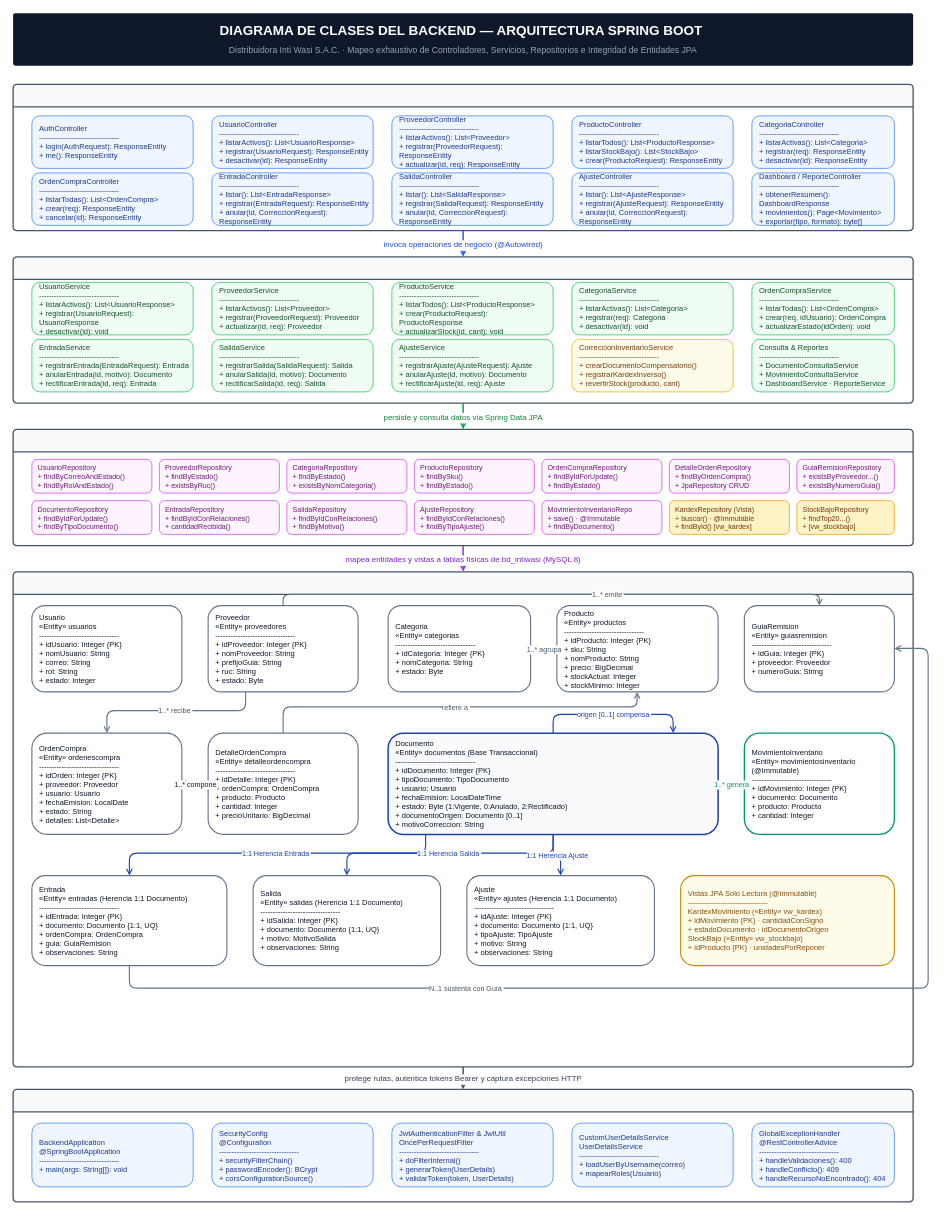
The diagram is 948 pixels wide and 1215 high, and some of its shapes have lost their labels. Each missing label, with the box of its shape:
1. CAPA CONTROLADORES REST · API ENDPOINTS (@RestController): (12, 83, 913, 231)
2. CAPA SERVICIOS DE NEGOCIO · LÓGICA Y TRANSACCIONES (@Service): (12, 256, 913, 403)
3. CAPA REPOSITORIOS JPA · ACCESO A DATOS (14 Interfaces JpaRepository): (12, 428, 913, 546)
4. CAPA ENTIDADES DEL DOMINIO · MAPEO ORM HIBERNATE (@Entity): (12, 571, 913, 1067)
5. SEGURIDAD, CONFIGURACIÓN Y MANEJO DE EXCEPCIONES GLOBALES: (12, 1088, 913, 1202)
